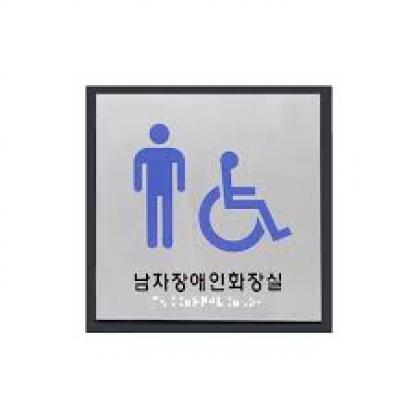toilet: (126, 122, 295, 259)
